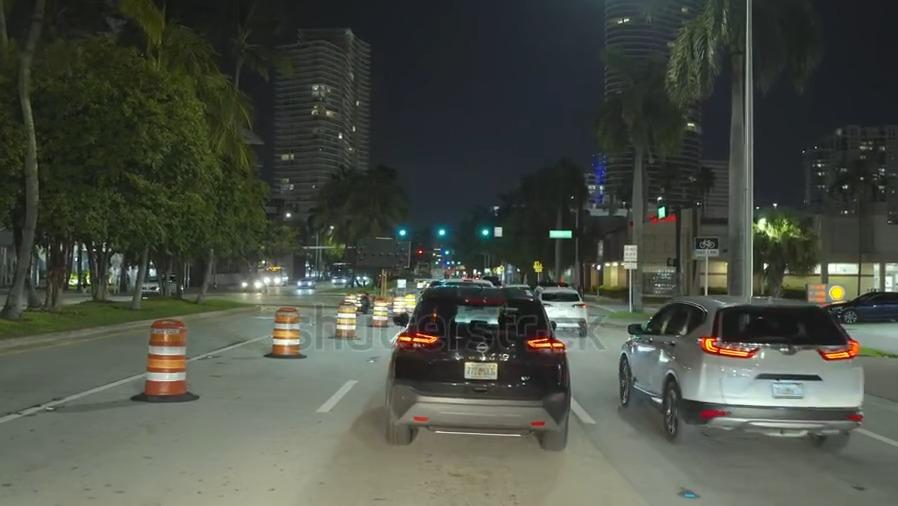bus: (326, 258, 353, 290), (260, 264, 290, 288), (296, 275, 317, 291)
car: (619, 297, 868, 451), (394, 288, 563, 449), (536, 283, 587, 339), (822, 289, 898, 323), (136, 271, 185, 297), (235, 275, 267, 294)
cone: (143, 315, 192, 391), (269, 303, 301, 358), (336, 301, 355, 339), (369, 297, 388, 326), (390, 296, 403, 318), (405, 289, 415, 312)
traffic light: (428, 222, 453, 243), (475, 221, 495, 247), (390, 220, 413, 242)
wheel: (658, 374, 688, 441), (612, 354, 639, 415)
